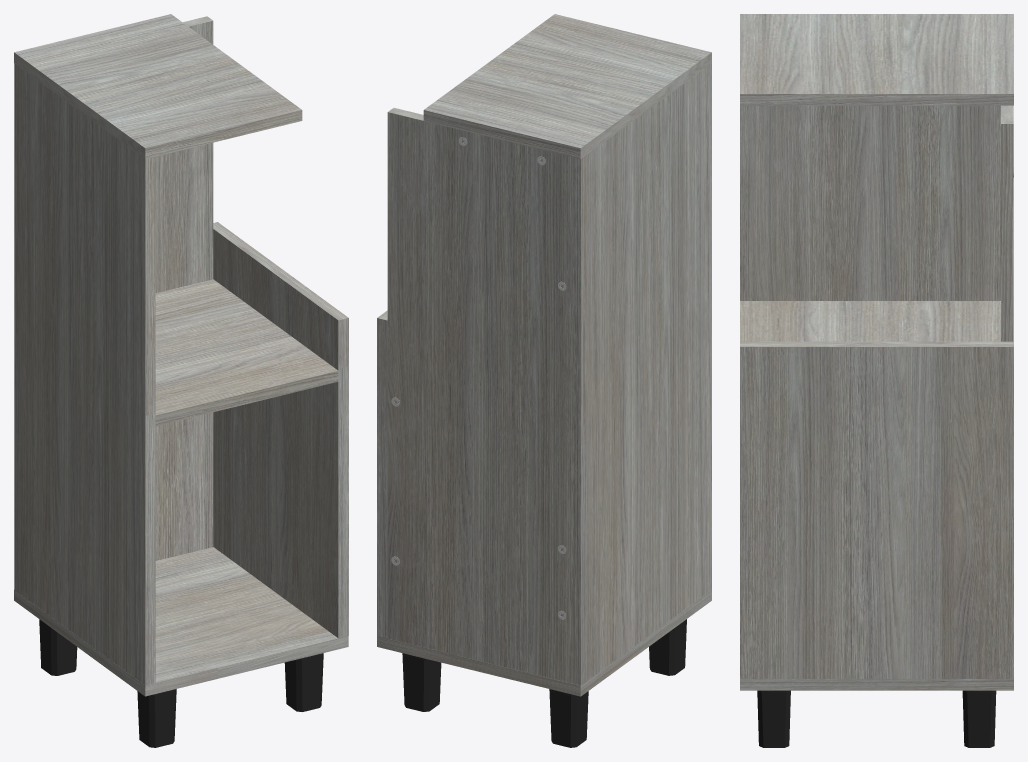
3 views of the same model, side by side, from view 1: azimuth 30°, elevation 25°; view 2: azimuth 150°, elevation 25°; view 3: azimuth 270°, elevation 25° (orthographic). The views are drawn at different scales.
Parts seen in each view (by area): view 1: Cube.007, Cube.002, Cube.001, Cube.003; view 2: Cube.007, Cube.003, Cube.004, Cube.002; view 3: Cube.007, Cube.001, Cube.004.
Boxes of the visible parts, left/top/right/bottom form: Cube.007: left=14, top=14, right=348, bottom=696; Cube.002: left=137, top=689, right=176, bottom=747; Cube.001: left=284, top=653, right=323, bottom=711; Cube.003: left=39, top=619, right=77, bottom=675; Cube.007: left=377, top=14, right=711, bottom=696; Cube.003: left=549, top=689, right=588, bottom=747; Cube.004: left=402, top=653, right=441, bottom=711; Cube.002: left=649, top=619, right=686, bottom=675; Cube.007: left=740, top=14, right=1013, bottom=690; Cube.001: left=757, top=690, right=790, bottom=747; Cube.004: left=962, top=690, right=996, bottom=747.
Size of the model in its own units: 0.35 by 1 by 0.39.
10 materials, 4 textured.
